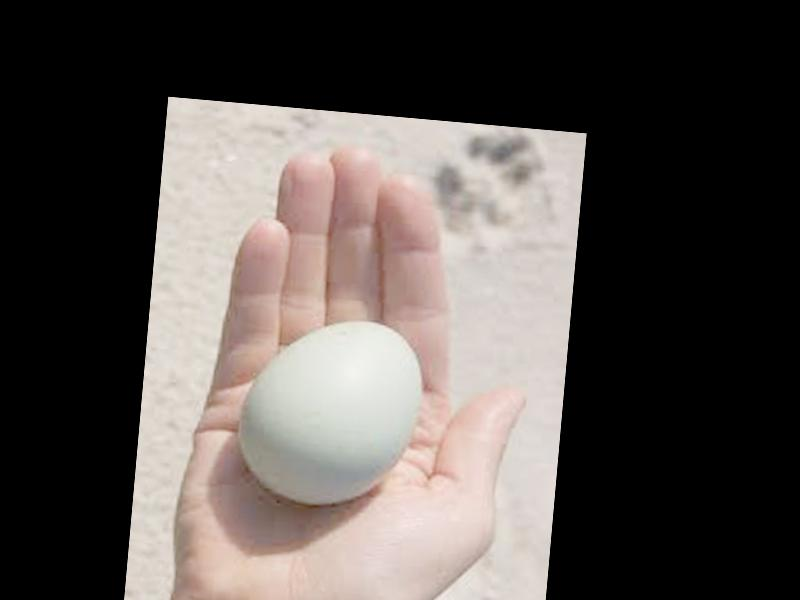Eggs: (232, 315, 423, 508)
